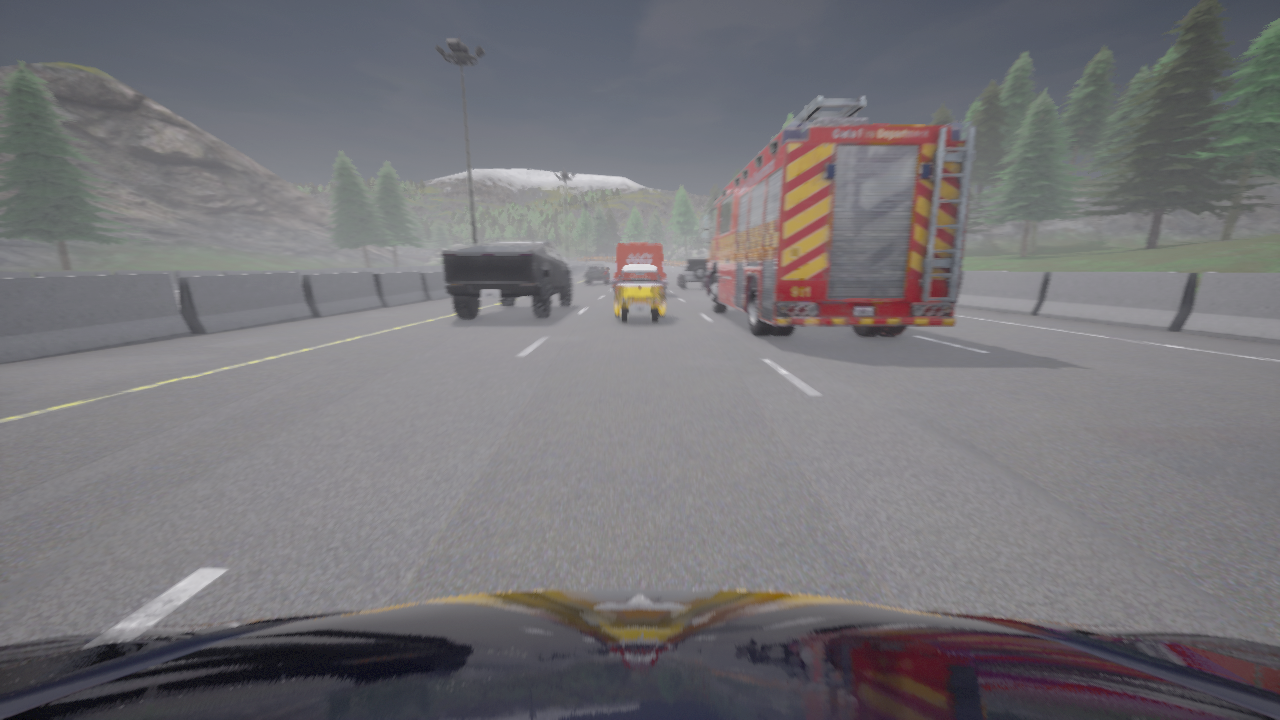cyclist: (0, 588, 1279, 719), (700, 96, 975, 335), (442, 241, 572, 317), (612, 265, 667, 322), (613, 243, 666, 292), (678, 258, 708, 288)
